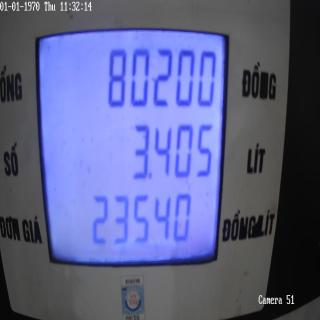screen: (32, 10, 232, 276)
